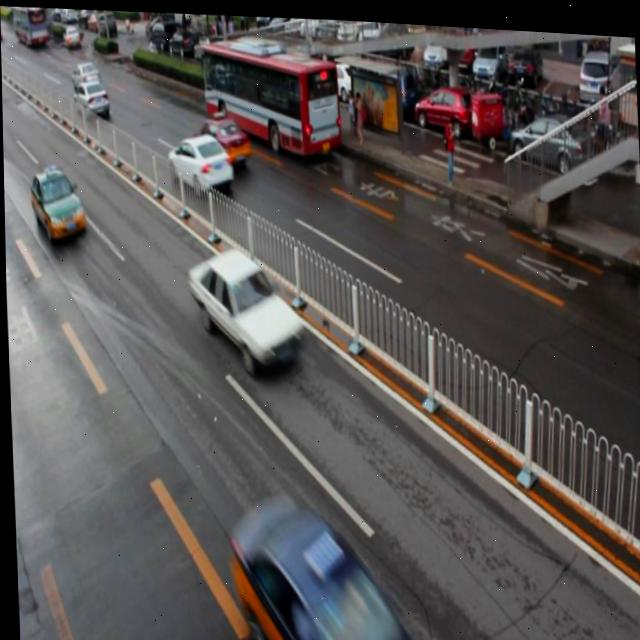car: (230, 492, 426, 640), (185, 242, 302, 372), (29, 161, 87, 243), (166, 128, 232, 192), (191, 110, 250, 166), (71, 76, 110, 122)
van: (202, 35, 340, 156)
